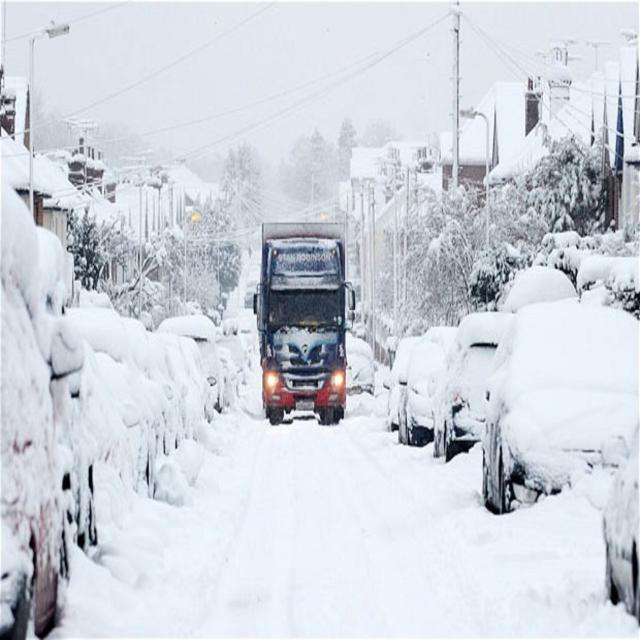bus: (258, 222, 352, 424)
car: (488, 308, 640, 514), (441, 314, 514, 458), (154, 313, 226, 420), (392, 332, 452, 450), (341, 341, 381, 408)
